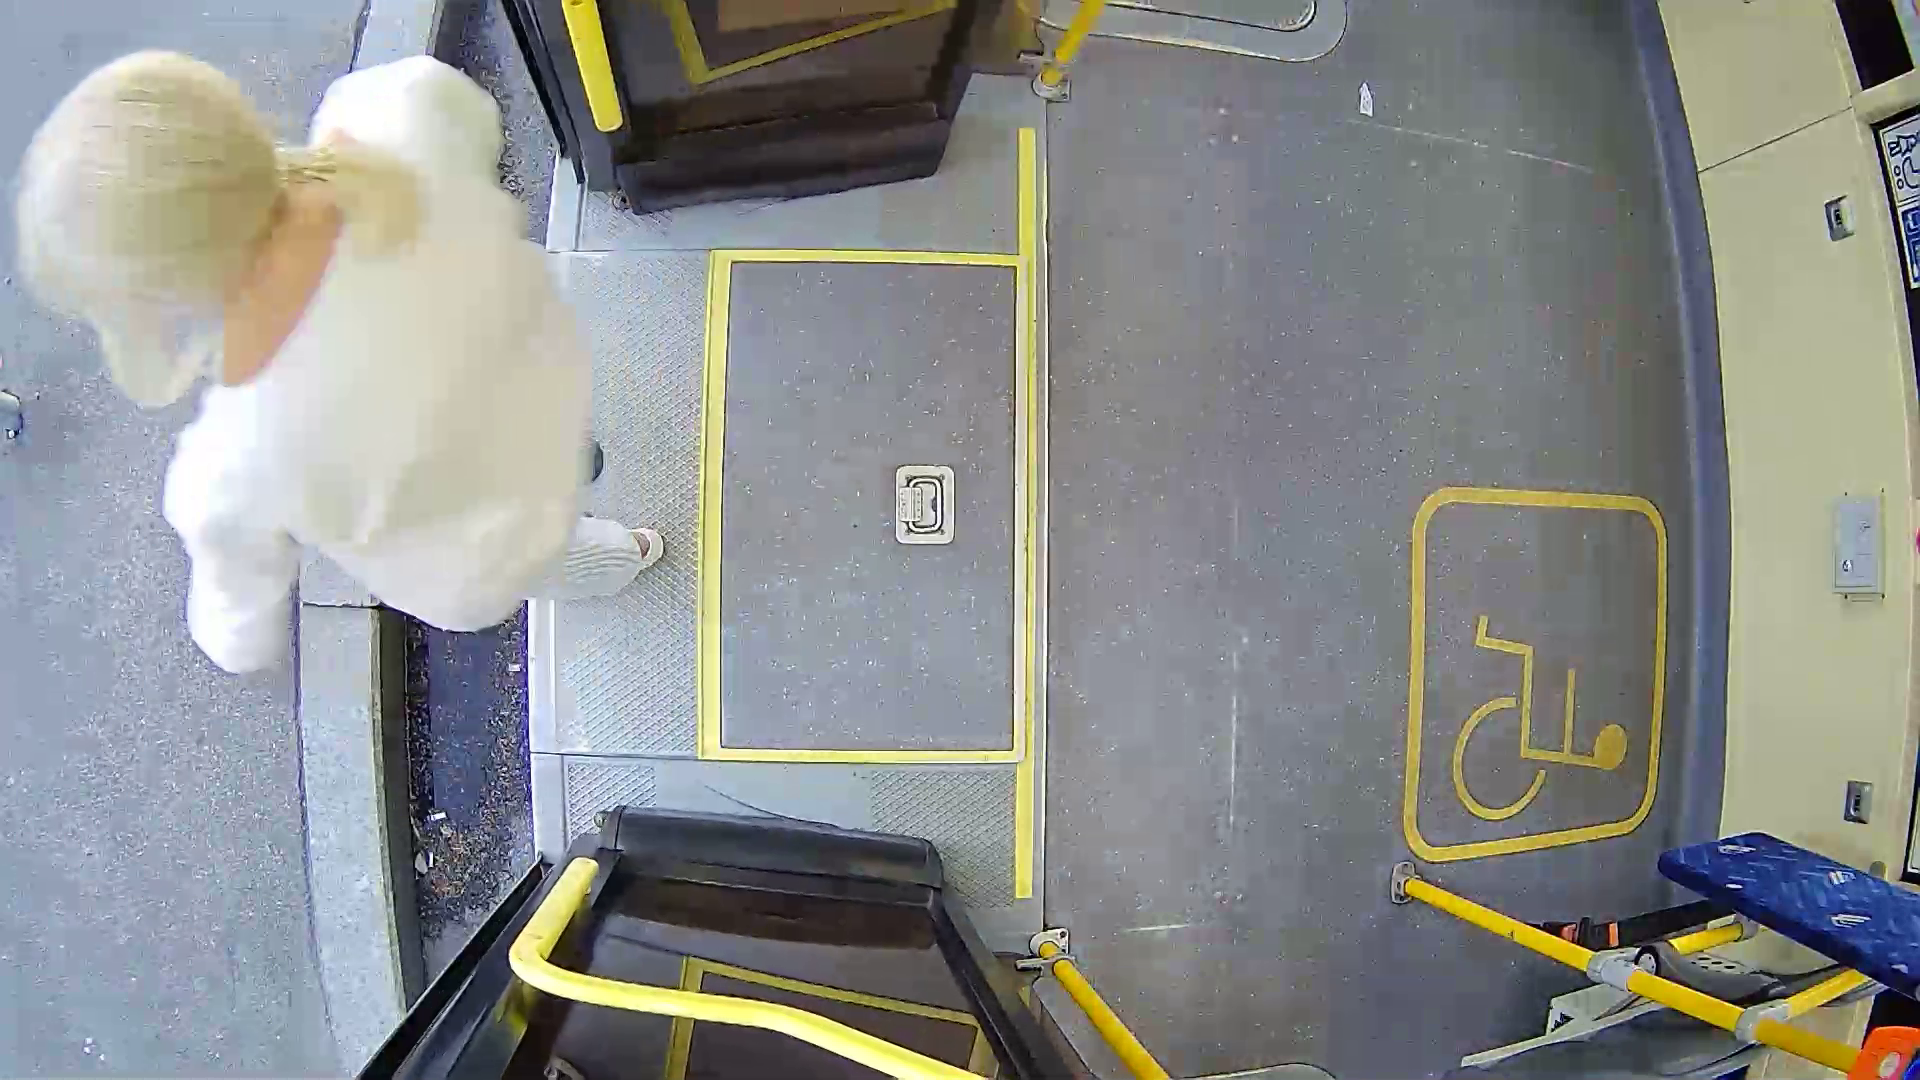person: (42, 72, 797, 663)
